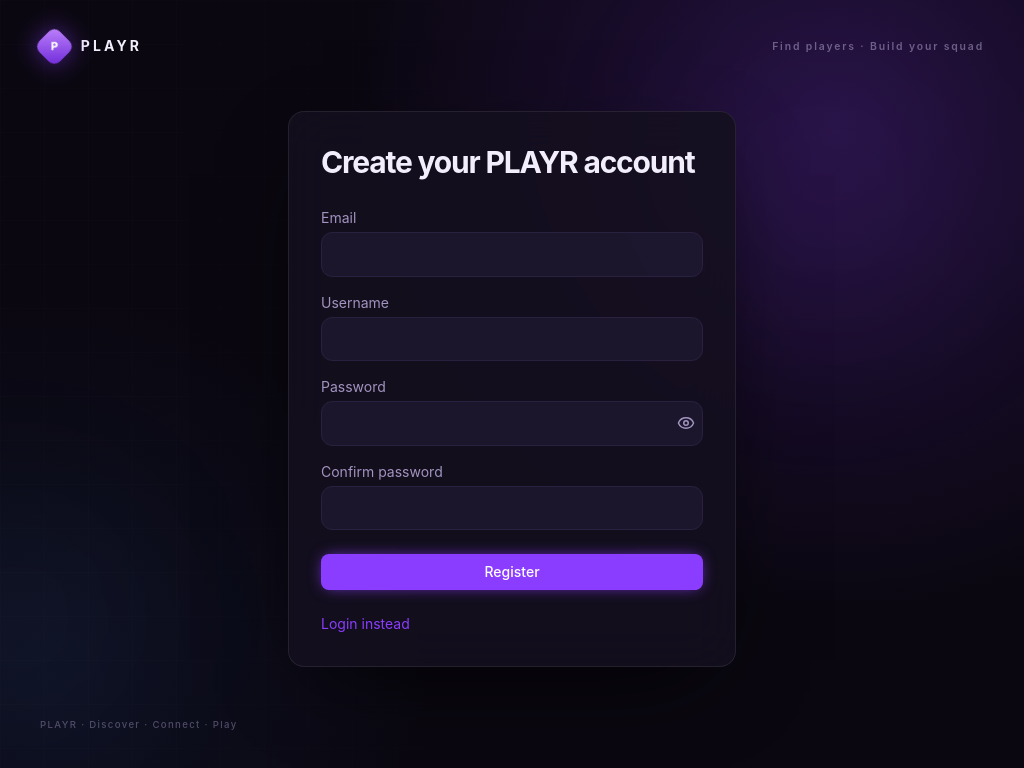
Test: RegisterPage › does not log the user in after registering
Type "a@b.com" into the field labelled "Email" at (512, 255), box [321, 232, 703, 277]
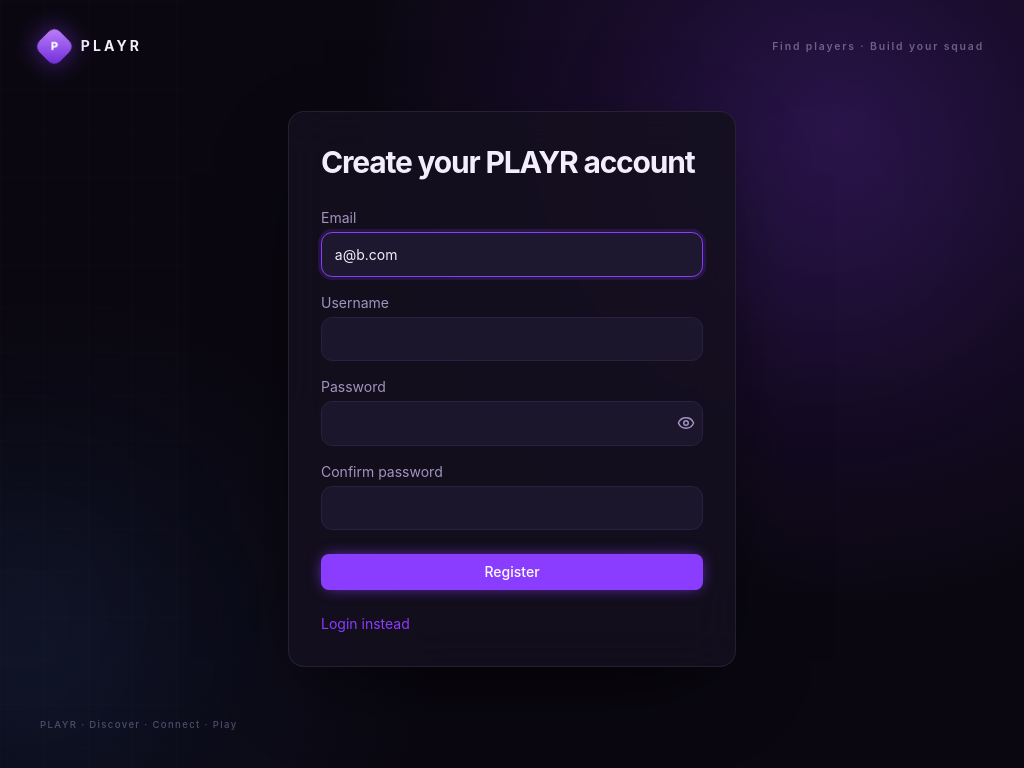
Type "someone" into the field labelled "Username" at (512, 339), box [321, 317, 703, 361]
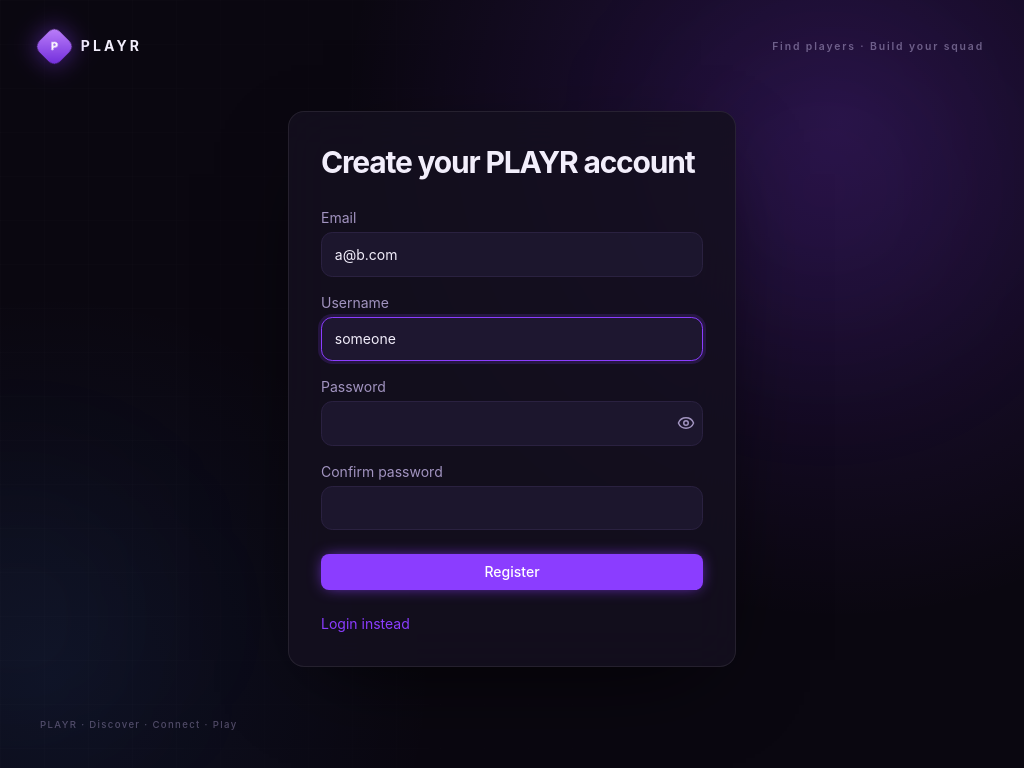
Type "Tr0ub4dor&Elephant" into the password field labelled "Password" at (512, 423), box [321, 401, 703, 446]
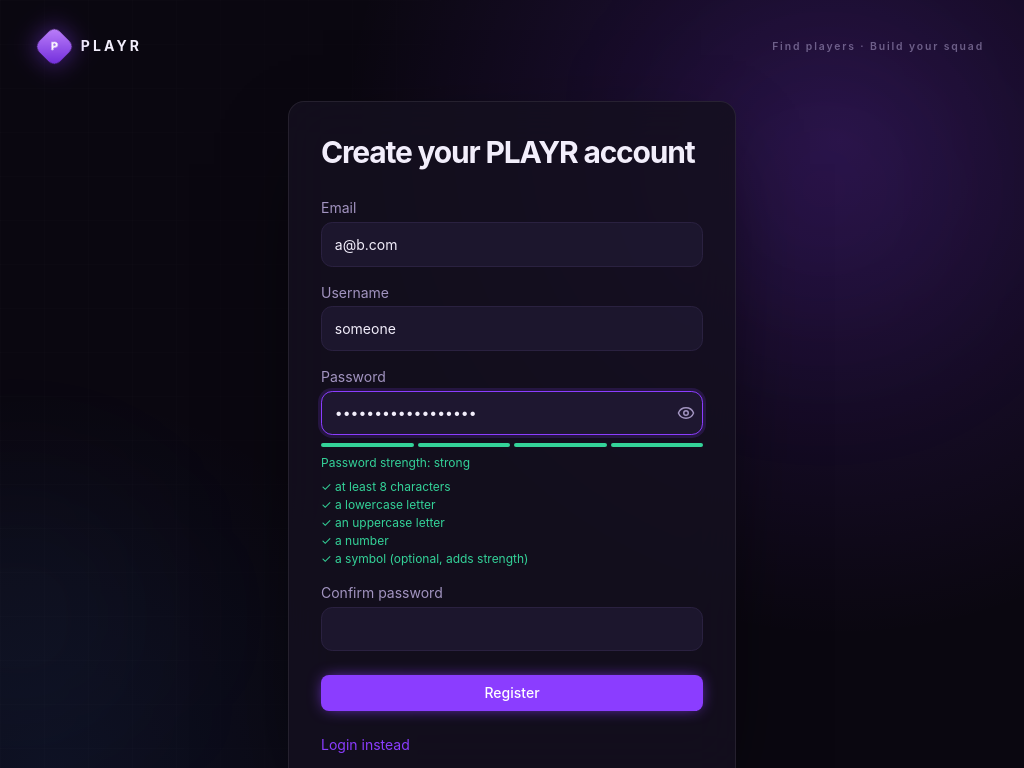
Type "Tr0ub4dor&Elephant" into the password field labelled "Confirm password" at (512, 629), box [321, 607, 703, 651]
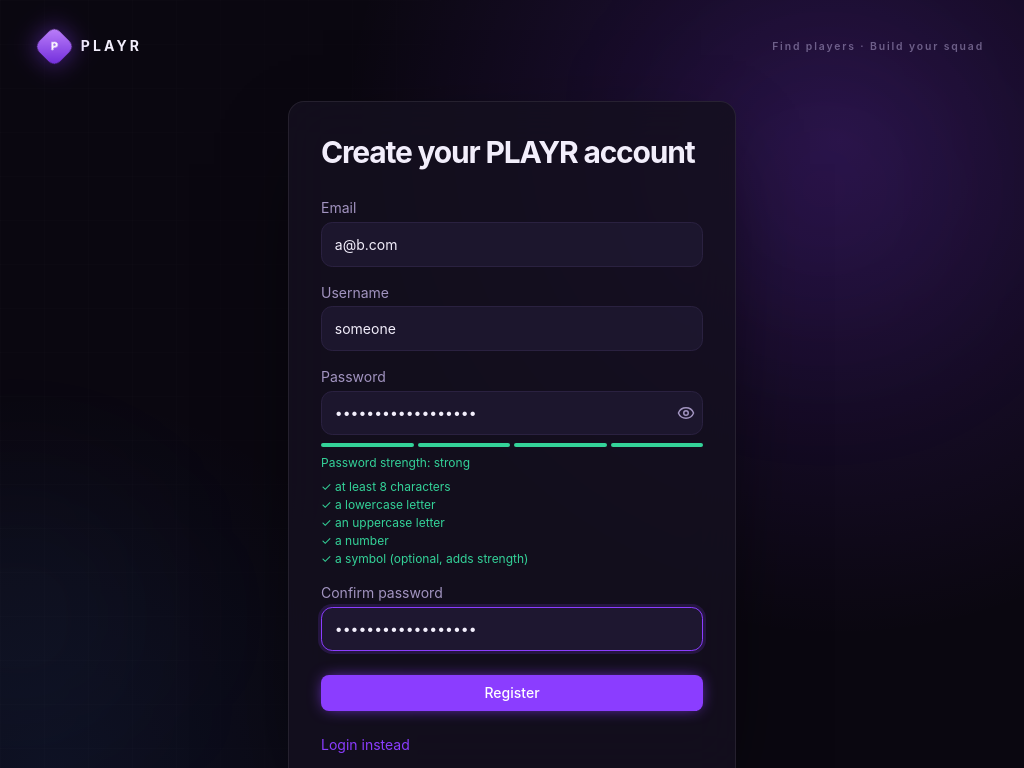
Click the button "Register" at (512, 693), box [321, 675, 703, 711]
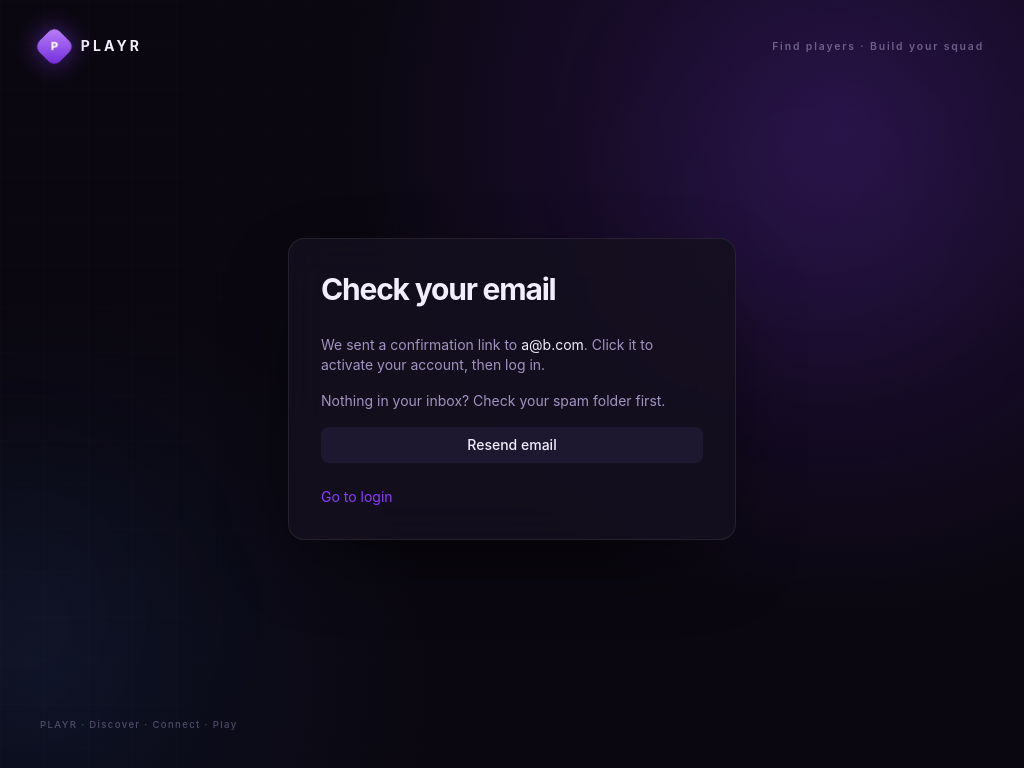
Expected: the heading "Check your email" is shown, [321, 271, 556, 307]
